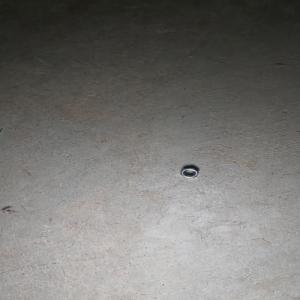Nut: (180, 166, 199, 178)
